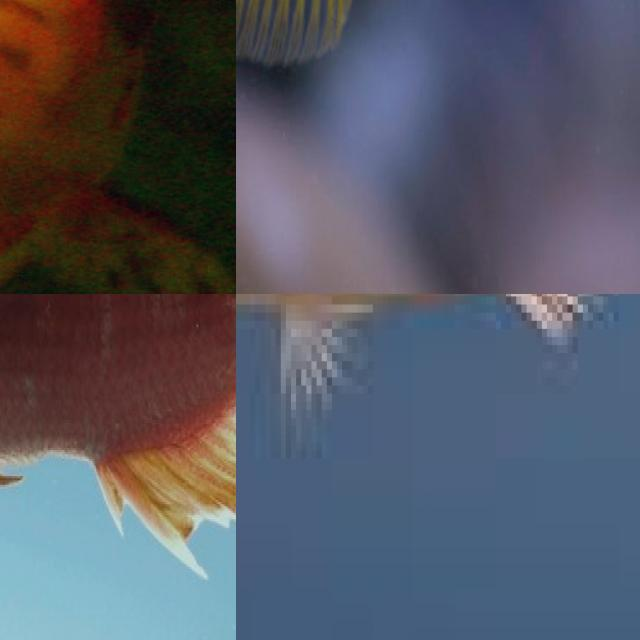fish: (236, 294, 640, 539), (0, 294, 236, 640), (0, 0, 236, 294), (236, 0, 640, 112)
